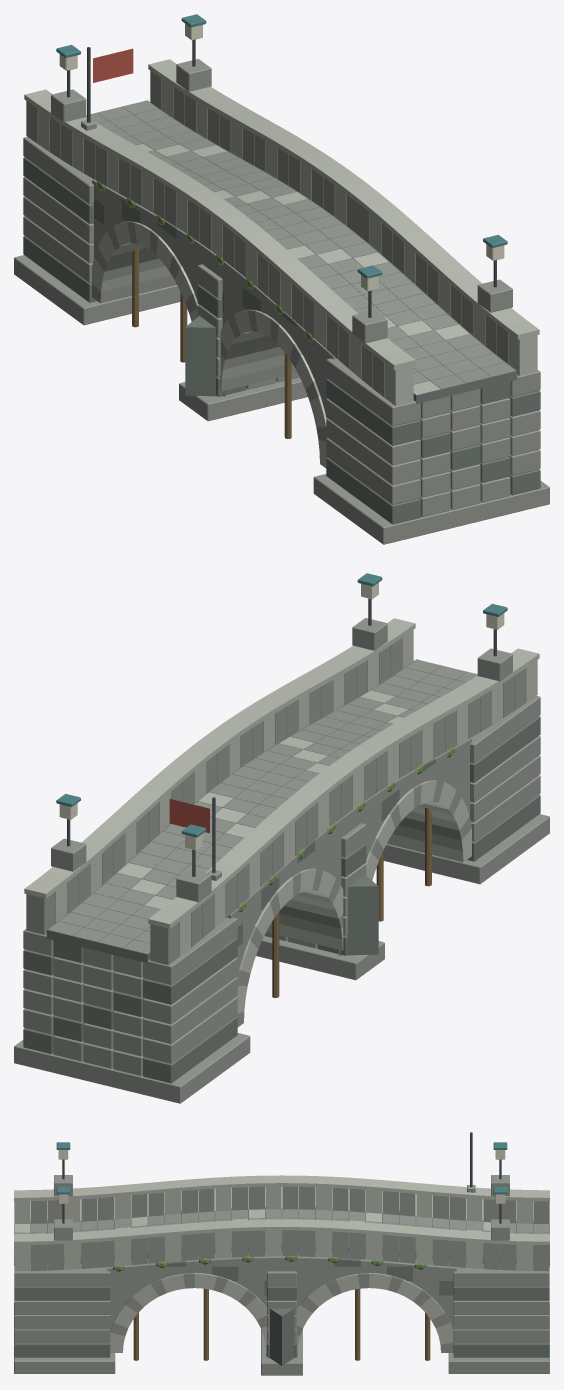
File: stone-bridge.glb
3 views of the same model, one above another, from view 1: azimuth 30°, elevation 25°; view 2: azimuth 150°, elevation 25°; view 3: azimuth 270°, elevation 25° (orthographic). The views are drawn at different scales.
Visible parts, largest first — view 1: Foundation_mesh, PierCourse.005_mesh, LanternsAndWeathering_mesh, PierCourse.004_mesh, PierCourse_mesh, PierCourse.003_mesh, PierCourse.002_mesh, PierCourse.001_mesh, ParapetCourse_mesh, Cutwater_mesh, DeckCourse_mesh, TemporaryCentering_mesh (+61 smaller); view 2: Foundation_mesh, PierCourse.005_mesh, LanternsAndWeathering_mesh, PierCourse.004_mesh, PierCourse_mesh, PierCourse.003_mesh, PierCourse.002_mesh, PierCourse.001_mesh, ParapetCourse.031_mesh, Cutwater_mesh, DeckCourse.031_mesh, TemporaryCentering_mesh (+59 smaller); view 3: Foundation_mesh, PierCourse.005_mesh, PierCourse.004_mesh, PierCourse.003_mesh, LanternsAndWeathering_mesh, PierCourse.001_mesh, PierCourse_mesh, PierCourse.002_mesh, TemporaryCentering_mesh, Cutwater.001_mesh, ParapetCourse.017_mesh, ParapetCourse.014_mesh (+39 smaller).
Part boxes in pixels (x1=…): Foundation_mesh: x1=14, y1=255, x2=549, y2=544; PierCourse.005_mesh: x1=23, y1=136, x2=540, y2=426; LanternsAndWeathering_mesh: x1=51, y1=14, x2=512, y2=343; PierCourse.004_mesh: x1=23, y1=157, x2=540, y2=445; PierCourse_mesh: x1=23, y1=235, x2=540, y2=524; PierCourse.003_mesh: x1=23, y1=176, x2=540, y2=465; PierCourse.002_mesh: x1=23, y1=196, x2=540, y2=485; PierCourse.001_mesh: x1=23, y1=216, x2=540, y2=504; ParapetCourse_mesh: x1=382, y1=321, x2=539, y2=405; Cutwater_mesh: x1=185, y1=316, x2=225, y2=396; DeckCourse_mesh: x1=413, y1=362, x2=517, y2=404; TemporaryCentering_mesh: x1=132, y1=249, x2=291, y2=438; Foundation_mesh: x1=14, y1=814, x2=549, y2=1103; PierCourse.005_mesh: x1=23, y1=695, x2=540, y2=985; LanternsAndWeathering_mesh: x1=51, y1=573, x2=512, y2=911; PierCourse.004_mesh: x1=23, y1=716, x2=540, y2=1004; PierCourse_mesh: x1=23, y1=794, x2=540, y2=1083; PierCourse.003_mesh: x1=23, y1=735, x2=540, y2=1024; PierCourse.002_mesh: x1=23, y1=755, x2=540, y2=1044; PierCourse.001_mesh: x1=23, y1=775, x2=540, y2=1063; ParapetCourse.031_mesh: x1=24, y1=880, x2=181, y2=964; Cutwater_mesh: x1=338, y1=875, x2=378, y2=955; DeckCourse.031_mesh: x1=46, y1=921, x2=150, y2=963; TemporaryCentering_mesh: x1=272, y1=808, x2=431, y2=997; Foundation_mesh: x1=14, y1=1303, x2=549, y2=1375; PierCourse.005_mesh: x1=14, y1=1221, x2=549, y2=1286; PierCourse.004_mesh: x1=14, y1=1286, x2=549, y2=1300; PierCourse.003_mesh: x1=14, y1=1300, x2=549, y2=1314; LanternsAndWeathering_mesh: x1=54, y1=1142, x2=509, y2=1271; PierCourse.001_mesh: x1=14, y1=1329, x2=549, y2=1343; PierCourse_mesh: x1=14, y1=1343, x2=549, y2=1357; PierCourse.002_mesh: x1=14, y1=1315, x2=549, y2=1329; TemporaryCentering_mesh: x1=133, y1=1288, x2=430, y2=1360; Cutwater.001_mesh: x1=266, y1=1308, x2=297, y2=1365; ParapetCourse.017_mesh: x1=298, y1=1175, x2=315, y2=1256; ParapetCourse.014_mesh: x1=248, y1=1175, x2=265, y2=1256.
Bounding box in the file's own units: 2.78 × 3.59 × 9.2.
